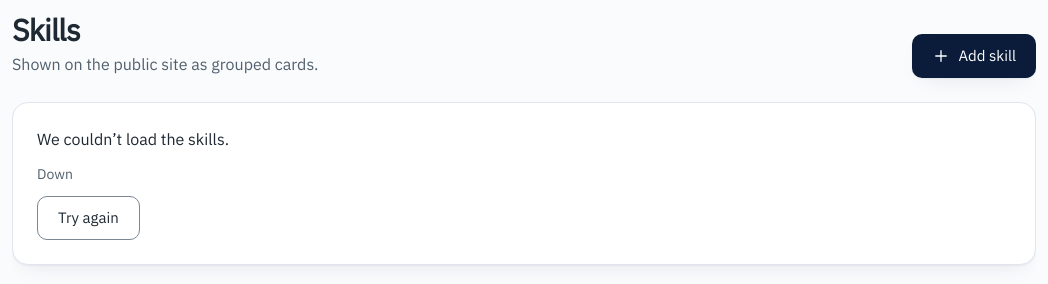
it: SkillsPage (config-driven CRUD) › shows an empty state, an error with retry, and never a blank screen
The image size is (1048, 284).
Expected: the message shows "couldn’t load the skills", x1=12 y1=102 x2=1036 y2=265
Click the button "Try again" at x=88, y=218, box x1=37 y1=196 x2=140 y2=240
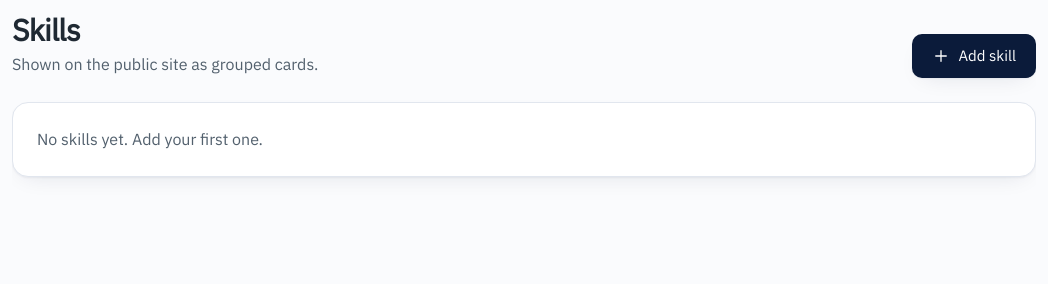
Expected: the text "No skills yet. Add your first one." is shown, x1=12 y1=102 x2=1036 y2=177
